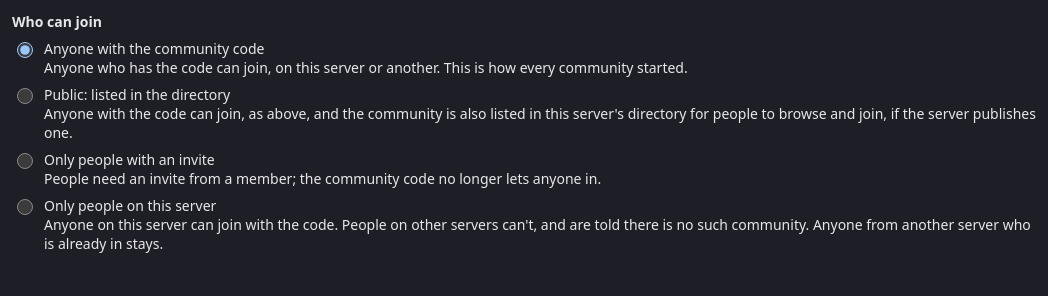
Settings -> General -> Who can join › clears an earlier failure on the next attempt
Click the radio button labelled "Only people with an invite": (25, 161) [17,153,33,169]
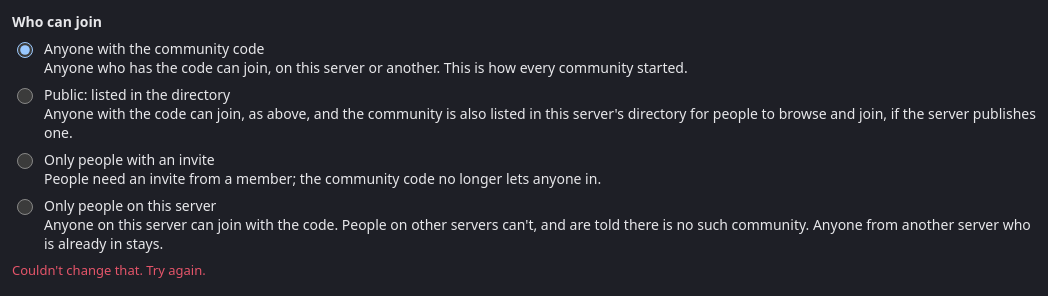
Result: the message "Couldn't change that. Try again." is shown at [12,261,206,279]
Click the radio button labelled "Only people with an invite": (25, 161) [17,153,33,169]
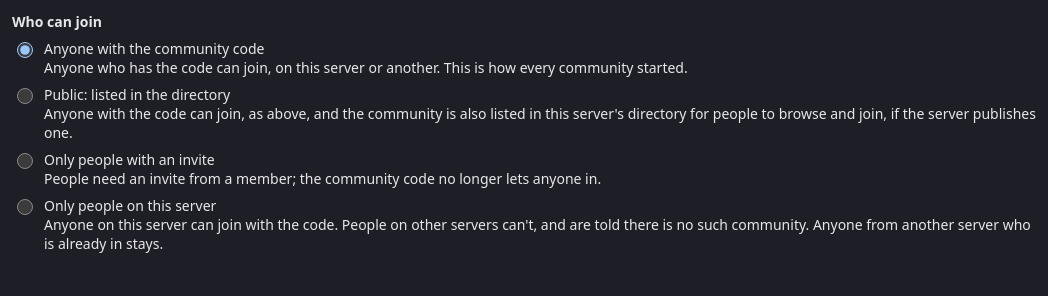
Result: the message "Couldn't change that. Try again." is gone
